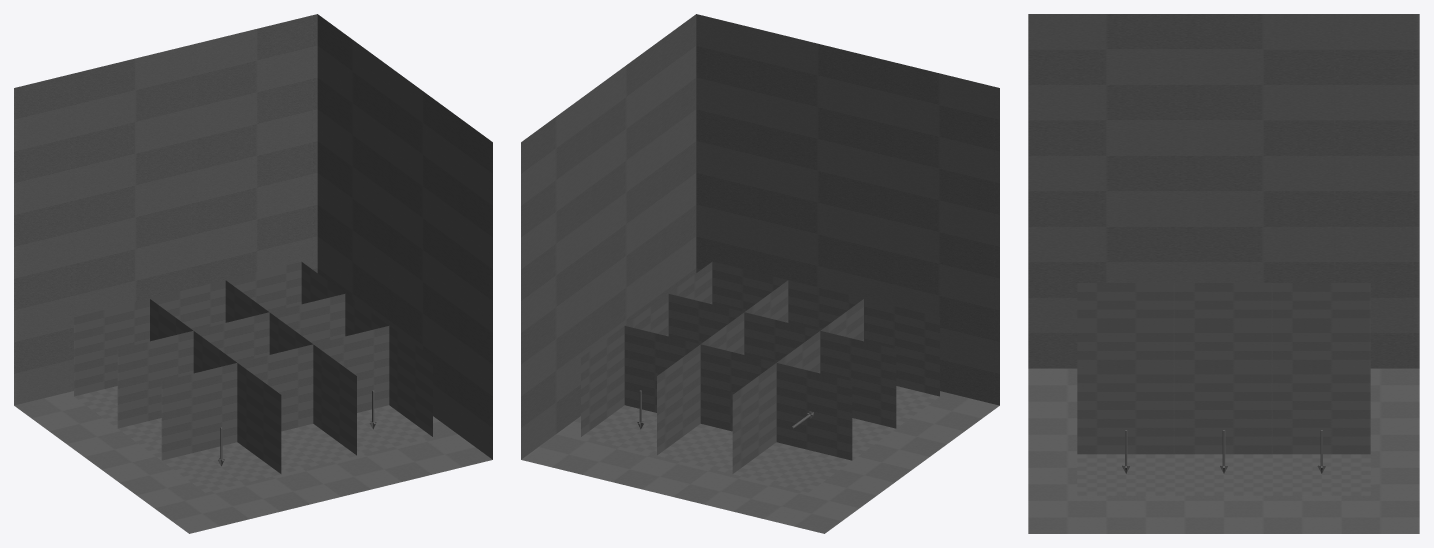
Rendered from LightsAndCameras.gltf.
The picture shows the model from 3 angles, left to right: view 1: azimuth 30°, elevation 25°; view 2: azimuth 150°, elevation 25°; view 3: azimuth 270°, elevation 25°; orthographic projection. The views are drawn at different scales.
Visible parts, largest first — view 1: Box_StaticMeshComponent0, DirectionalBox3_StaticMeshComponent0, PointBox3_StaticMeshComponent0, SpotBox3_StaticMeshComponent0, DirectionalBox2_StaticMeshComponent0, DirectionalBox1_StaticMeshComponent0, SpotBox2_StaticMeshComponent0, SpotBox1_StaticMeshComponent0, PointBox1_StaticMeshComponent0, PointBox2_StaticMeshComponent0; view 2: Box_StaticMeshComponent0, DirectionalBox1_StaticMeshComponent0, PointBox1_StaticMeshComponent0, SpotBox1_StaticMeshComponent0, DirectionalBox2_StaticMeshComponent0, DirectionalBox3_StaticMeshComponent0, SpotBox2_StaticMeshComponent0, SpotBox3_StaticMeshComponent0, PointBox3_StaticMeshComponent0, PointBox2_StaticMeshComponent0; view 3: Box_StaticMeshComponent0, SpotBox1_StaticMeshComponent0, SpotBox2_StaticMeshComponent0, SpotBox3_StaticMeshComponent0, PointBox1_StaticMeshComponent0, PointBox2_StaticMeshComponent0, PointBox3_StaticMeshComponent0, DirectionalBox1_StaticMeshComponent0, DirectionalBox2_StaticMeshComponent0, DirectionalBox3_StaticMeshComponent0.
Boxes of the visible parts, left/top/right/bottom form: Box_StaticMeshComponent0: left=14, top=14, right=492, bottom=533; DirectionalBox3_StaticMeshComponent0: left=161, top=363, right=281, bottom=492; PointBox3_StaticMeshComponent0: left=237, top=344, right=356, bottom=474; SpotBox3_StaticMeshComponent0: left=314, top=326, right=432, bottom=455; DirectionalBox2_StaticMeshComponent0: left=117, top=331, right=236, bottom=460; DirectionalBox1_StaticMeshComponent0: left=74, top=298, right=193, bottom=428; SpotBox2_StaticMeshComponent0: left=270, top=293, right=388, bottom=344; SpotBox1_StaticMeshComponent0: left=226, top=261, right=344, bottom=311; PointBox1_StaticMeshComponent0: left=150, top=280, right=268, bottom=330; PointBox2_StaticMeshComponent0: left=194, top=312, right=312, bottom=362; Box_StaticMeshComponent0: left=521, top=14, right=999, bottom=533; DirectionalBox1_StaticMeshComponent0: left=732, top=363, right=852, bottom=492; PointBox1_StaticMeshComponent0: left=657, top=344, right=776, bottom=474; SpotBox1_StaticMeshComponent0: left=581, top=326, right=699, bottom=455; DirectionalBox2_StaticMeshComponent0: left=777, top=331, right=896, bottom=460; DirectionalBox3_StaticMeshComponent0: left=820, top=298, right=939, bottom=428; SpotBox2_StaticMeshComponent0: left=625, top=293, right=743, bottom=344; SpotBox3_StaticMeshComponent0: left=669, top=261, right=787, bottom=311; PointBox3_StaticMeshComponent0: left=745, top=280, right=863, bottom=330; PointBox2_StaticMeshComponent0: left=701, top=312, right=819, bottom=362; Box_StaticMeshComponent0: left=1028, top=14, right=1419, bottom=533; SpotBox1_StaticMeshComponent0: left=1273, top=365, right=1370, bottom=495; SpotBox2_StaticMeshComponent0: left=1175, top=365, right=1272, bottom=495; SpotBox3_StaticMeshComponent0: left=1077, top=365, right=1174, bottom=495; PointBox1_StaticMeshComponent0: left=1273, top=324, right=1370, bottom=365; PointBox2_StaticMeshComponent0: left=1175, top=324, right=1272, bottom=365; PointBox3_StaticMeshComponent0: left=1077, top=324, right=1174, bottom=365; DirectionalBox1_StaticMeshComponent0: left=1273, top=283, right=1370, bottom=324; DirectionalBox2_StaticMeshComponent0: left=1175, top=283, right=1272, bottom=324; DirectionalBox3_StaticMeshComponent0: left=1077, top=283, right=1174, bottom=324.
Bounding box in the file's own units: 4 × 4 × 4.
Materials: 1 (1 with a texture image).
